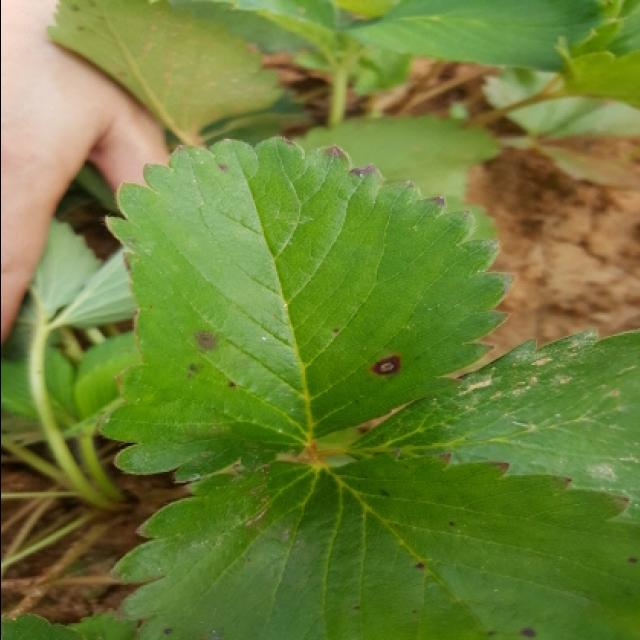Leaf Spot: (96, 135, 515, 486), (107, 447, 640, 638)
